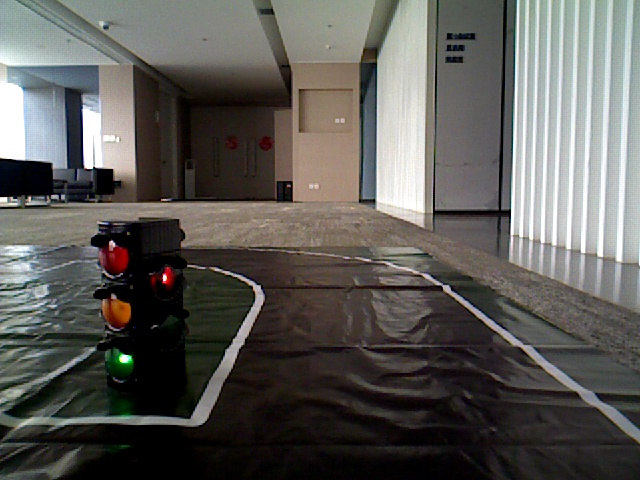green: (97, 232, 150, 384)
